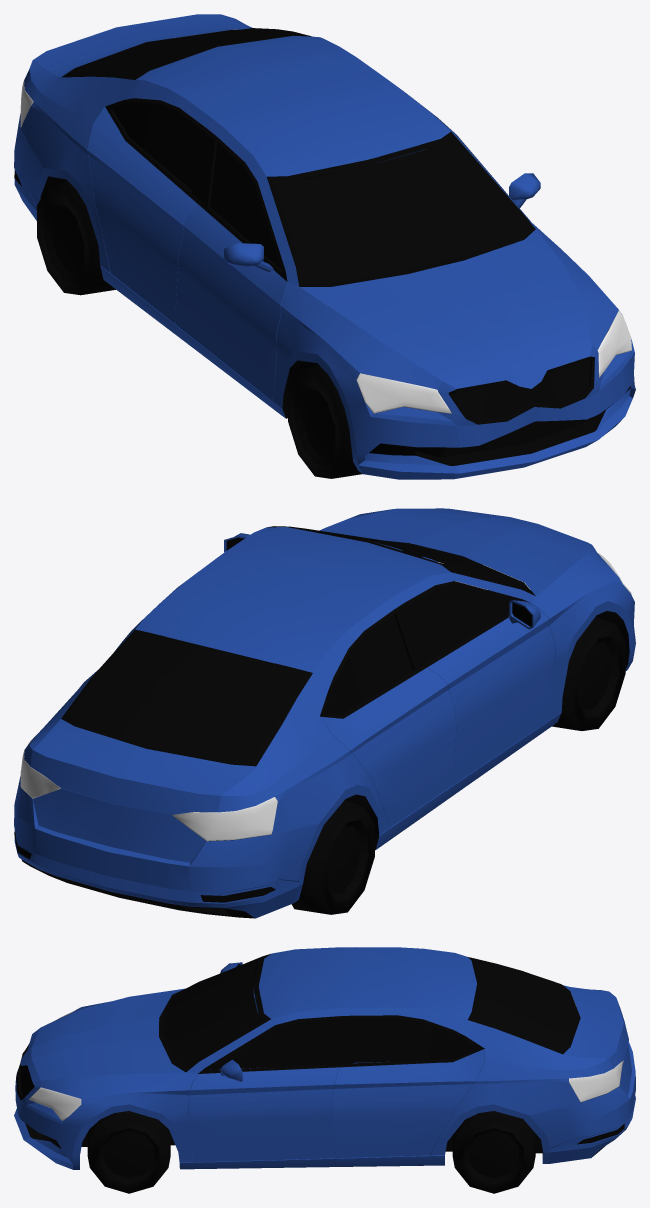
The model's file is SkodaLodHukuk.fbx.
The picture shows the model from 3 angles, top to bottom: view 1: azimuth 30°, elevation 25°; view 2: azimuth 150°, elevation 25°; view 3: azimuth 270°, elevation 25°; orthographic projection. The views are drawn at different scales.
Parts seen in each view (by area): view 1: skodasupar1_pPlane8, pCylinder8, pCylinder9; view 2: skodasupar1_pPlane8, pCylinder8, pCylinder9; view 3: skodasupar1_pPlane8, pCylinder3, pCylinder7.
Boxes of the visible parts, <box> form: skodasupar1_pPlane8: <box>14,14,635,479</box>; pCylinder8: <box>37,180,115,295</box>; pCylinder9: <box>288,364,362,478</box>; skodasupar1_pPlane8: <box>14,508,635,918</box>; pCylinder8: <box>291,800,374,914</box>; pCylinder9: <box>552,616,625,730</box>; skodasupar1_pPlane8: <box>14,947,635,1169</box>; pCylinder3: <box>87,1111,170,1193</box>; pCylinder7: <box>452,1111,535,1193</box>.
Bounding box in the file's own units: 17.91 × 13 × 42.89.
